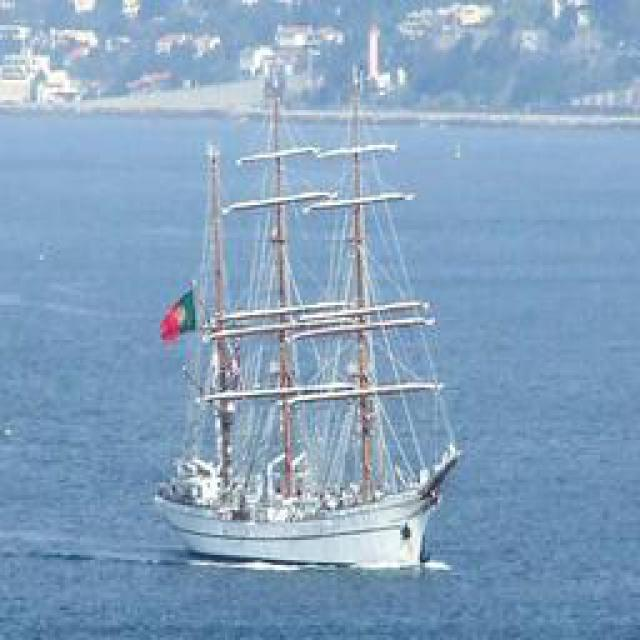Ship: (153, 86, 458, 566)
